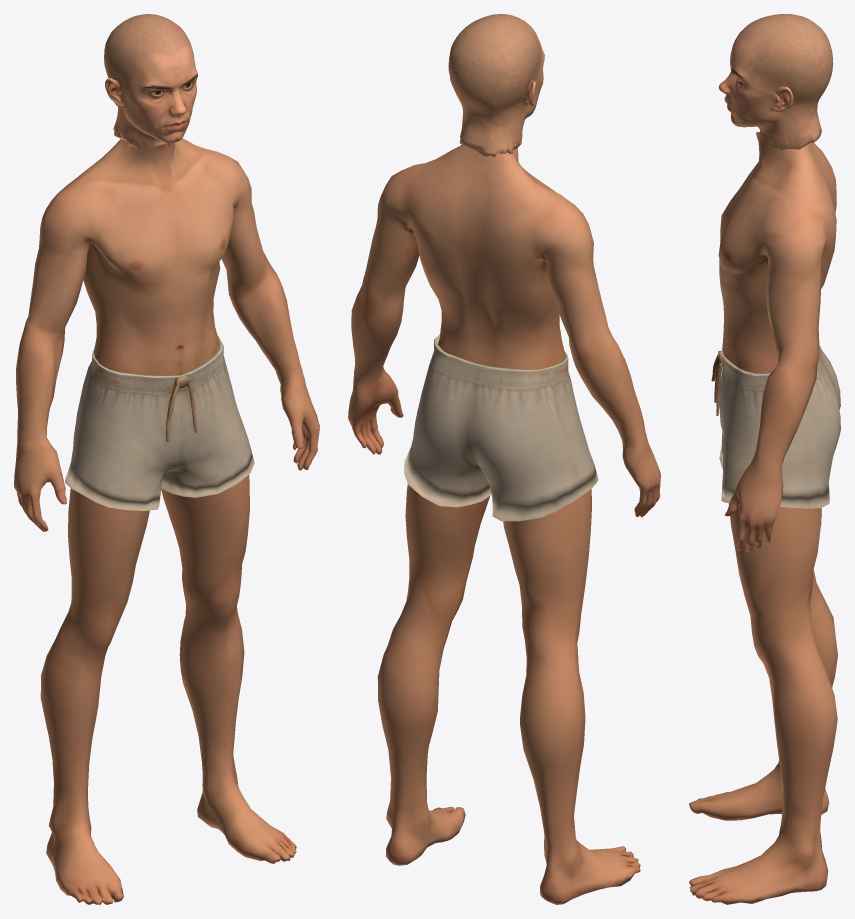
Rendered from koerper-neukopf.glb.
3 renders of one model, left to right at view 1: azimuth 30°, elevation 25°; view 2: azimuth 150°, elevation 25°; view 3: azimuth 270°, elevation 25°, orthographic. The views are drawn at different scales.
Parts seen in each view (by area): view 1: koerper; view 2: koerper; view 3: koerper.
Part boxes in pixels (<box>): koerper: <box>14,14,319,904</box>; koerper: <box>348,14,660,904</box>; koerper: <box>689,14,840,904</box>.
Bounding box in the file's own units: 0.6704 × 1.79 × 0.2962.
Materials: 2 (2 with a texture image).
